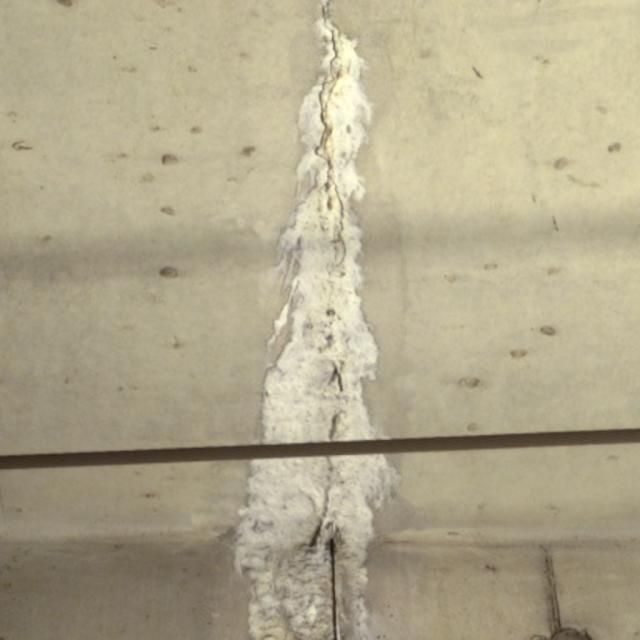D01: (262, 2, 381, 445), (234, 454, 401, 639)
